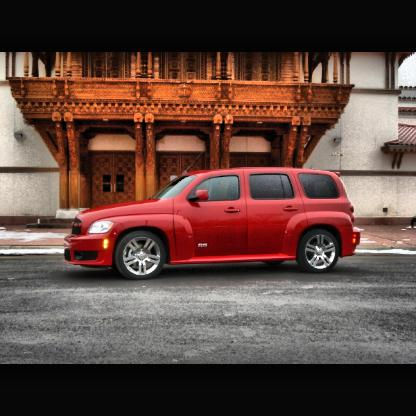Chevrolet HHR SS 2010: (63, 165, 368, 286)
